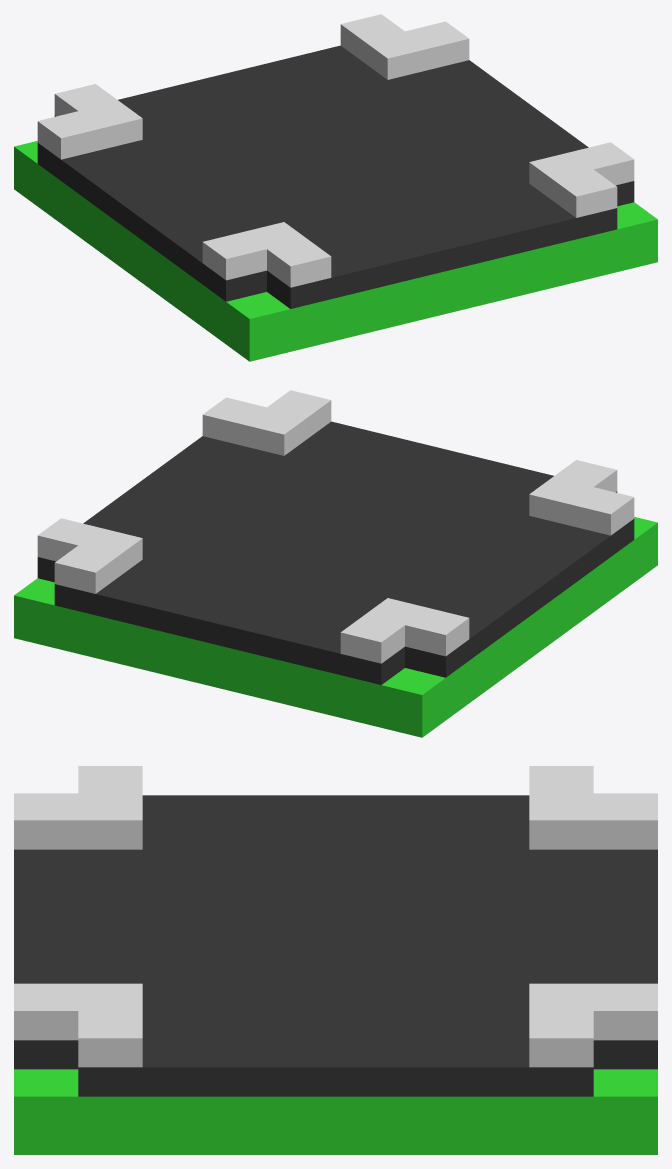
The model's file is Crossing.fbx.
3 renders of one model, top to bottom at view 1: azimuth 30°, elevation 25°; view 2: azimuth 150°, elevation 25°; view 3: azimuth 270°, elevation 25°, orthographic. The views are drawn at different scales.
Parts seen in each view (by area): view 1: Street_Normal; view 2: Street_Normal; view 3: Street_Normal.
Part boxes in pixels (left/top/right/bottom): Street_Normal: left=14, top=14, right=657, bottom=361; Street_Normal: left=14, top=390, right=657, bottom=737; Street_Normal: left=14, top=766, right=657, bottom=1154.
Bounding box in the file's own units: 200 × 40 × 200.
